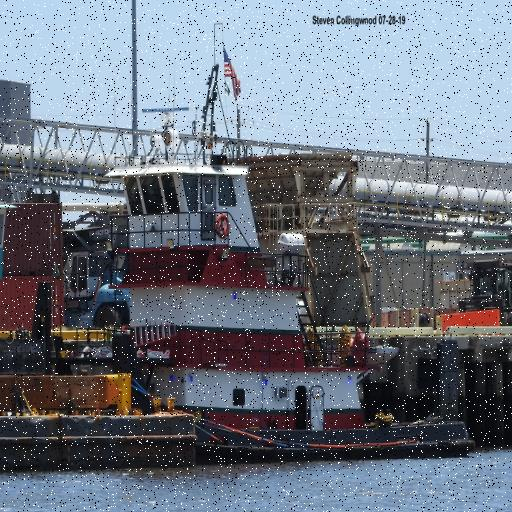tugboat: (29, 45, 478, 468)
